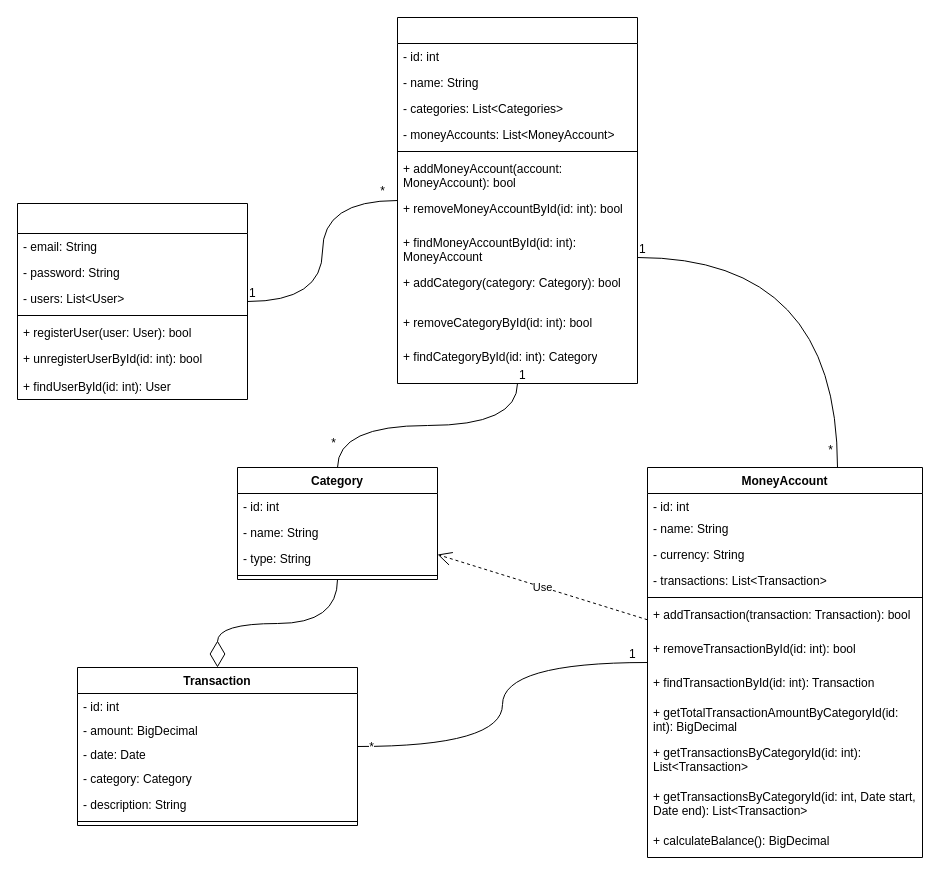
The diagram is 940 pixels wide and 878 high, and some of its shapes have lost their labels. The shapes that lost their labels are listed below. From the top down, each one's box as (x1, y1, x2, y2) in pixels, then its label:
(396, 16, 638, 384): User
(16, 202, 248, 400): UserAccount
